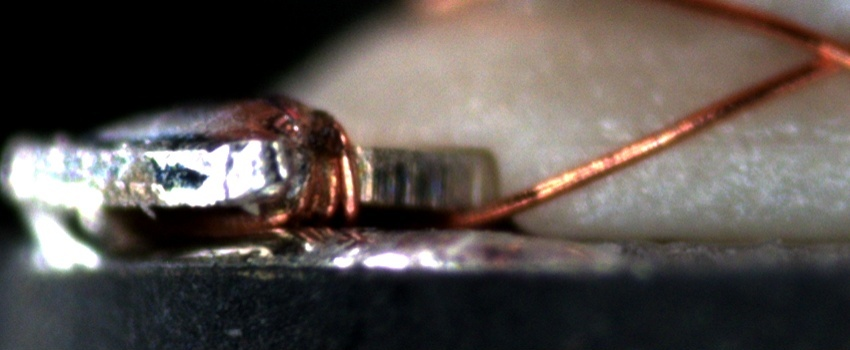CL: (793, 28, 850, 84)
DL: (629, 108, 850, 167)
TE: (284, 103, 375, 221)
